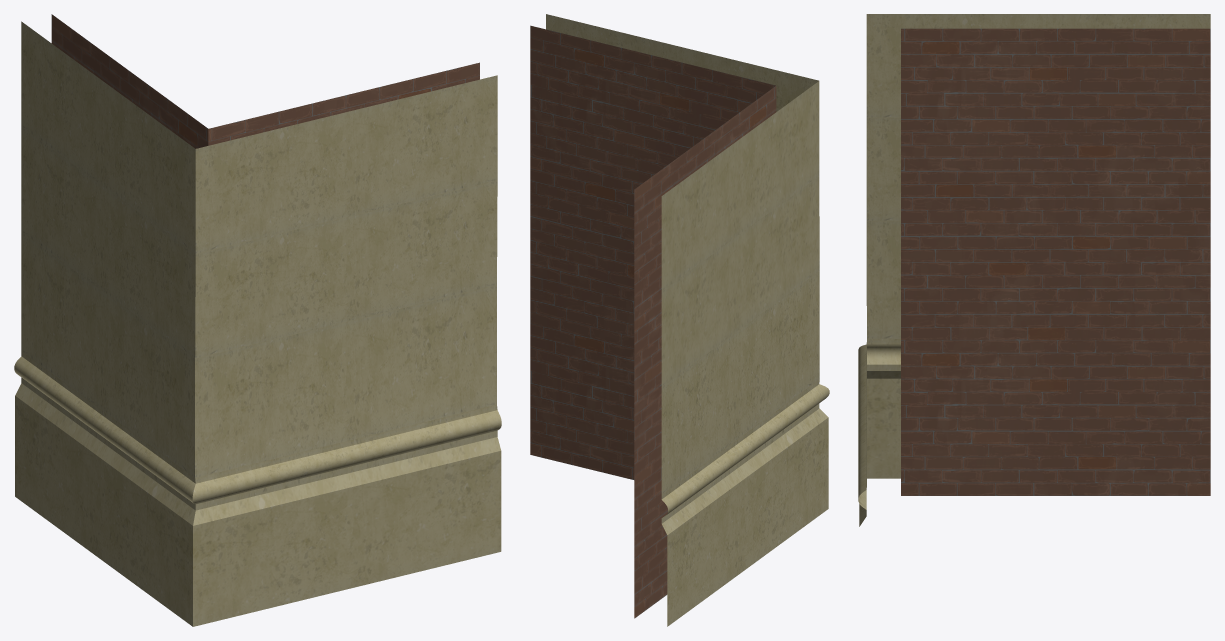
Rendered from q-downtown-trim-corner.glb.
3 renders of one model, left to right at view 1: azimuth 30°, elevation 25°; view 2: azimuth 150°, elevation 25°; view 3: azimuth 270°, elevation 25°, orthographic. The views are drawn at different scales.
Visible parts, largest first — view 1: Trim_Corner; view 2: Trim_Corner; view 3: Trim_Corner.
Part boxes in pixels (x1=…): Trim_Corner: x1=14, y1=14, x2=501, y2=626; Trim_Corner: x1=530, y1=14, x2=829, y2=626; Trim_Corner: x1=858, y1=14, x2=1210, y2=526.
Size of the model in its own units: 2.05 by 3 by 2.05.
2 materials, 2 textured.
